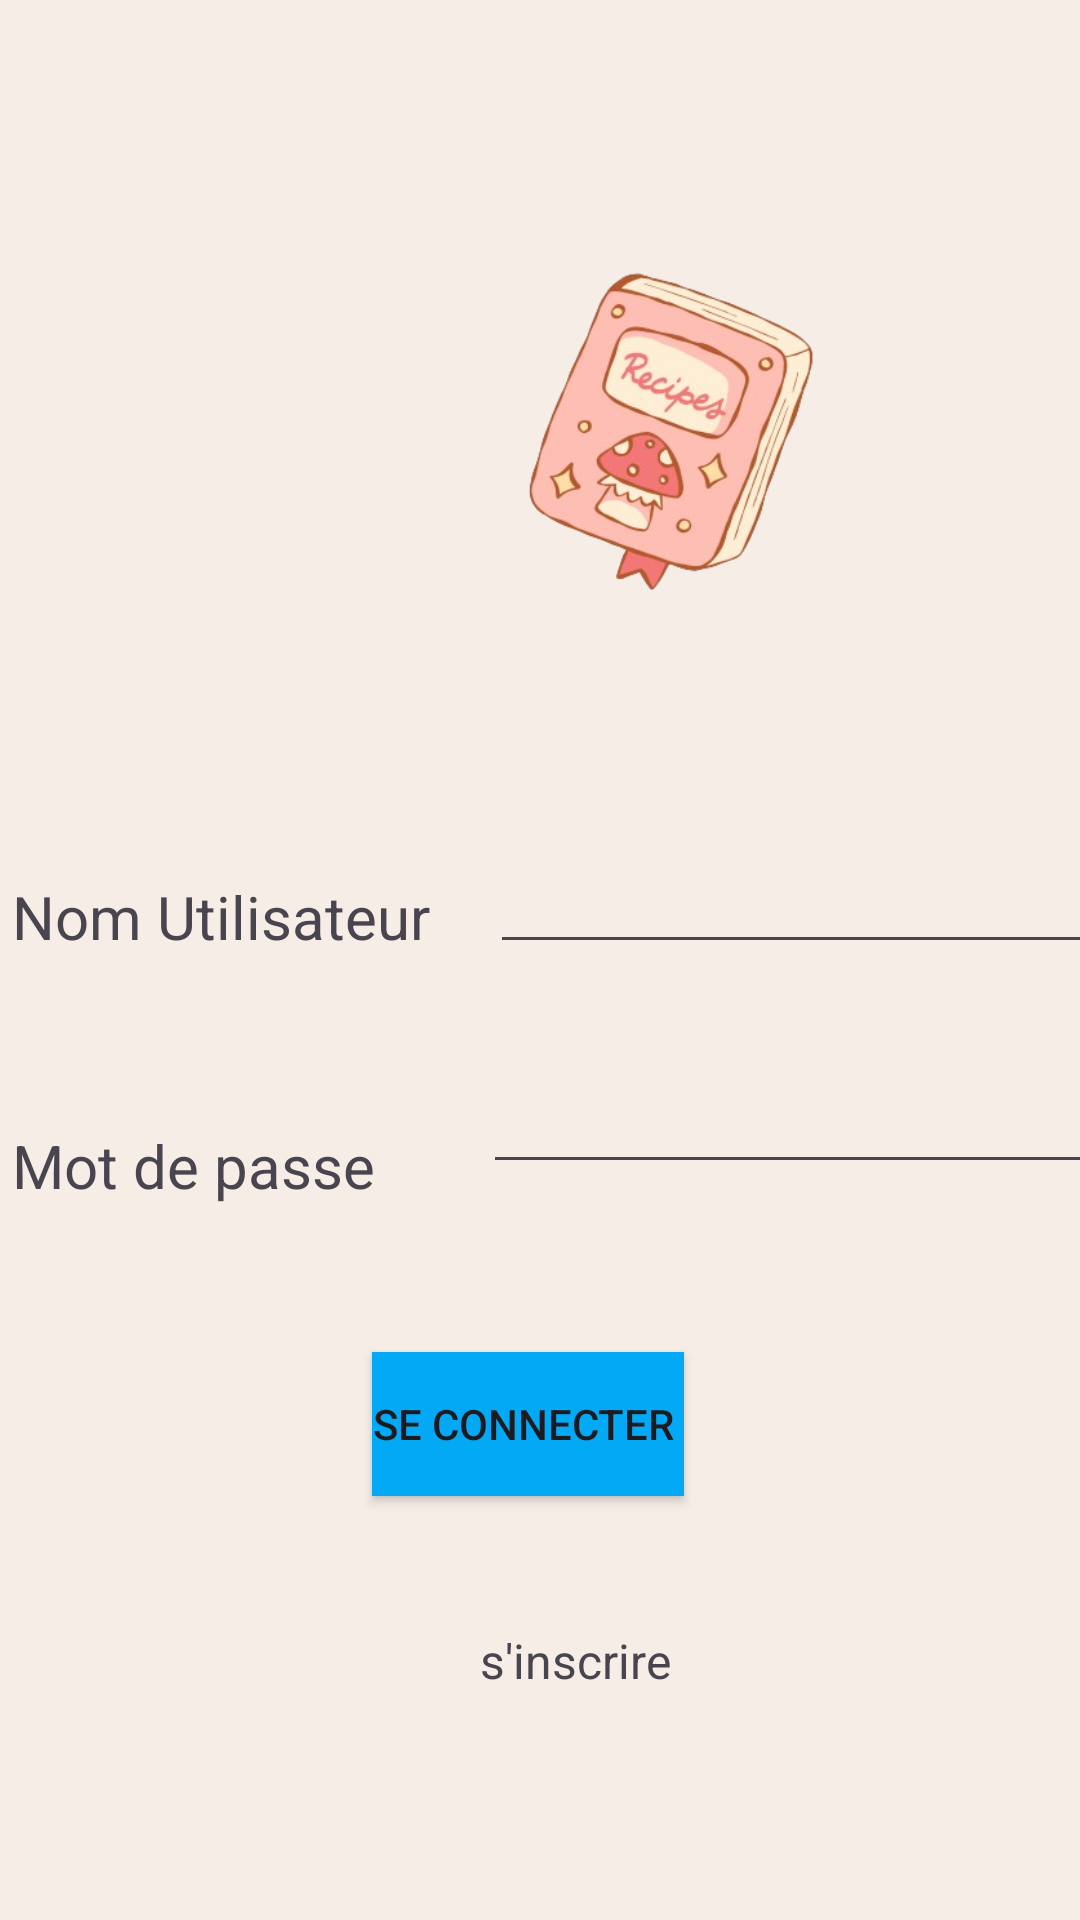

Where icons sit on this 1080x1920 app screen, as (x1, y1, x2, y2):
chef journal: (529, 273, 813, 590)
